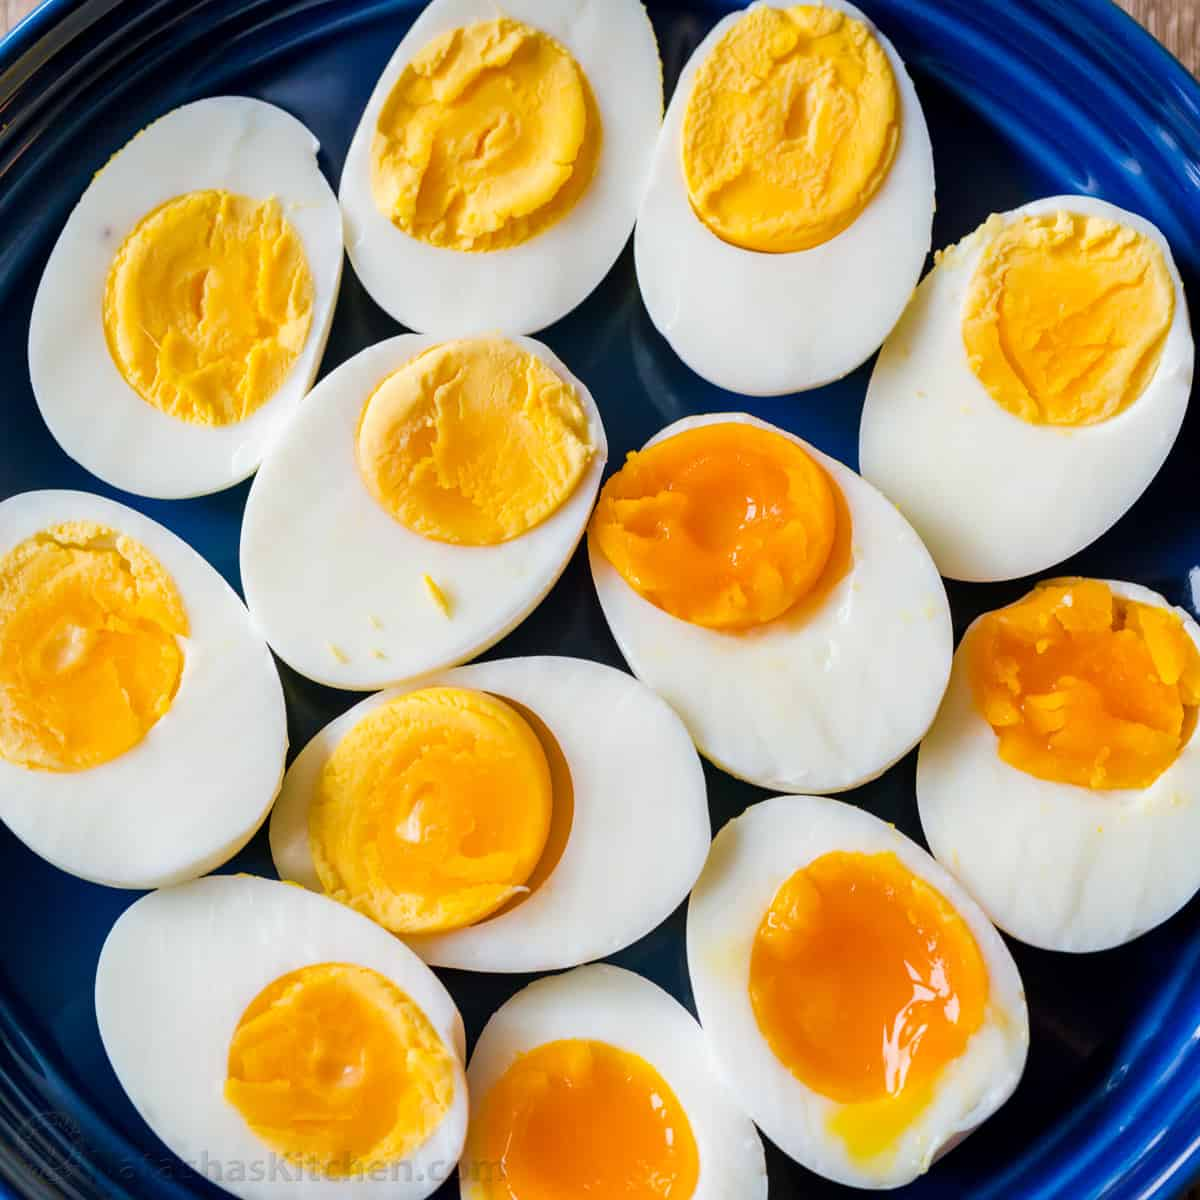Telur: (605, 7, 974, 375), (25, 90, 384, 449), (829, 188, 1182, 541), (855, 547, 1200, 891), (593, 420, 937, 764), (364, 4, 703, 343), (357, 636, 696, 975), (245, 345, 577, 677), (710, 764, 1038, 1092), (97, 880, 416, 1200), (1, 551, 311, 862)
